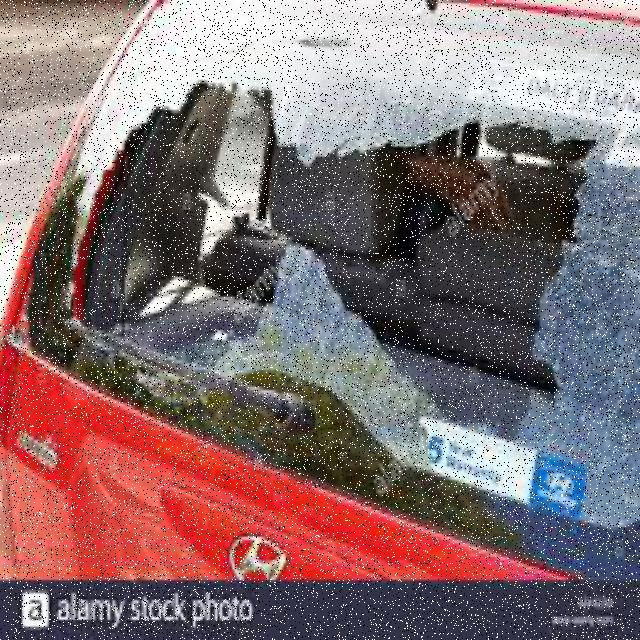Rear-windscreen-Damage: (0, 0, 638, 534)
